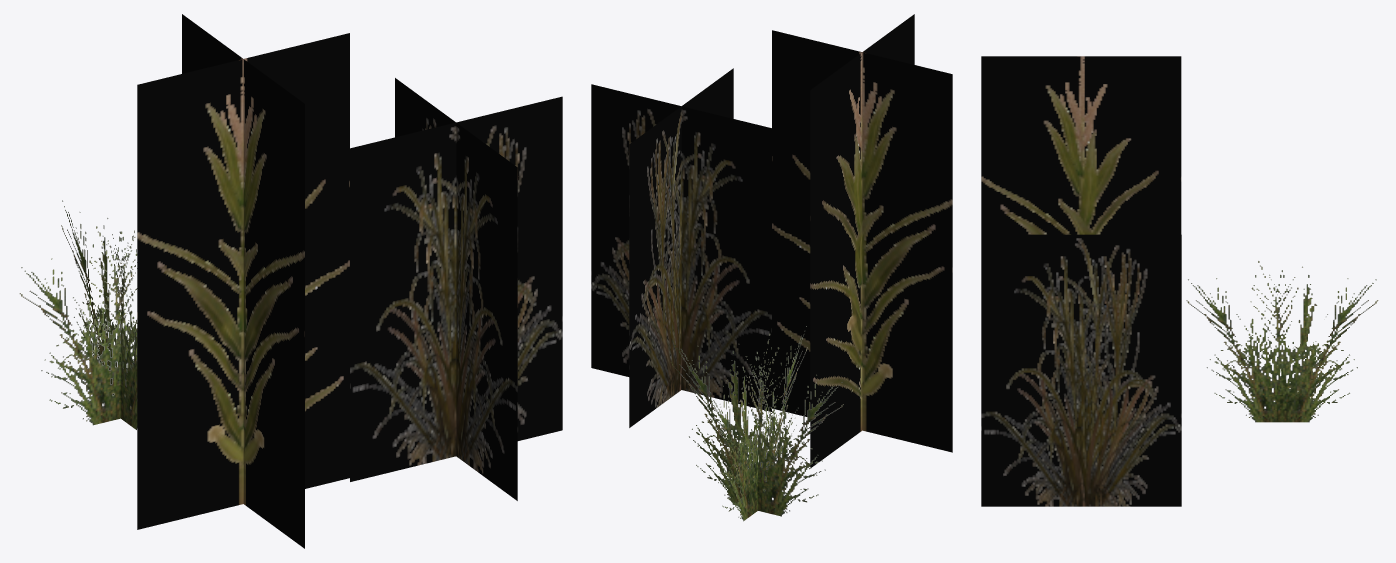
File: corn-and-grass.fbx
3 views of the same model, side by side, from view 1: azimuth 30°, elevation 25°; view 2: azimuth 150°, elevation 25°; view 3: azimuth 270°, elevation 25° (orthographic). The views are drawn at different scales.
Visible parts, largest first — view 1: corn, grass-dry-tall_LOD0, grass-dry_LOD0; view 2: corn, grass-dry-tall_LOD0, grass-dry_LOD0; view 3: grass-dry-tall_LOD0, corn, grass-dry_LOD0.
Part boxes in pixels (bbox=[...]): corn: bbox=[137, 14, 349, 548]; grass-dry-tall_LOD0: bbox=[350, 78, 562, 500]; grass-dry_LOD0: bbox=[19, 200, 137, 429]; corn: bbox=[772, 14, 952, 467]; grass-dry-tall_LOD0: bbox=[591, 68, 771, 427]; grass-dry_LOD0: bbox=[670, 326, 843, 521]; grass-dry-tall_LOD0: bbox=[981, 234, 1181, 506]; corn: bbox=[981, 56, 1181, 234]; grass-dry_LOD0: bbox=[1186, 261, 1378, 422].
Size of the model in its own units: 2 by 2.02 by 2.
